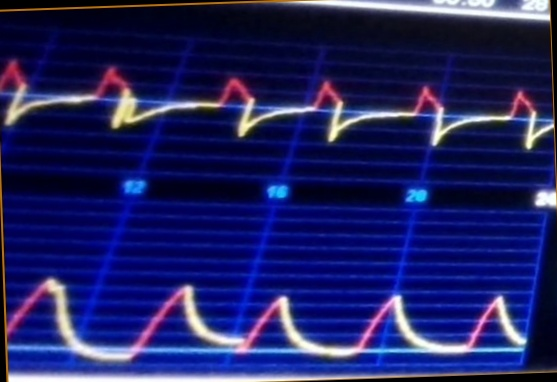Premature_cycling Flow: (2, 53, 551, 162)
Premature_cycling Volume: (8, 263, 525, 366)
